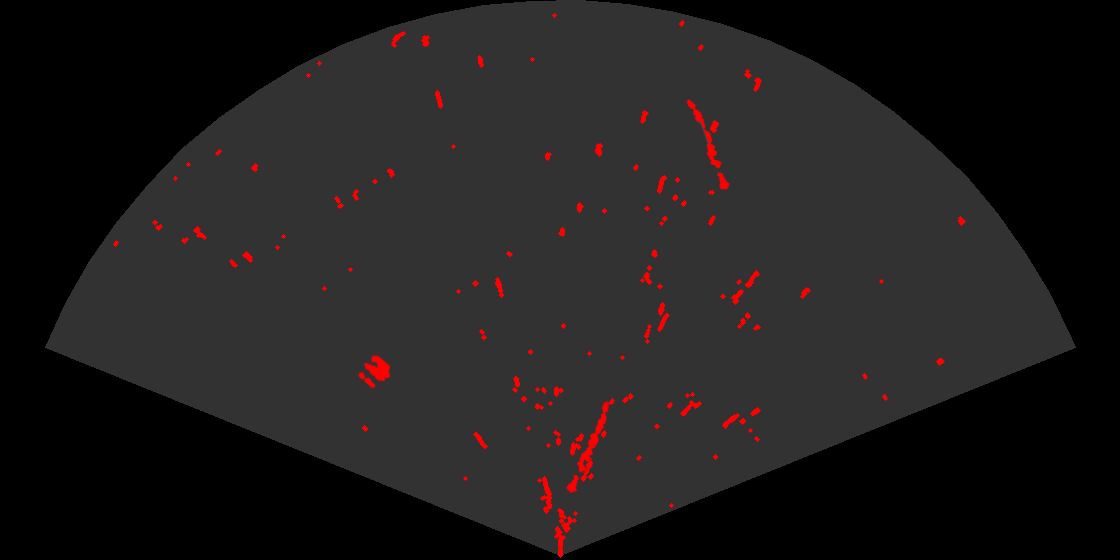ball: (356, 354, 392, 390)
chain: (685, 98, 731, 192), (565, 400, 610, 495)
